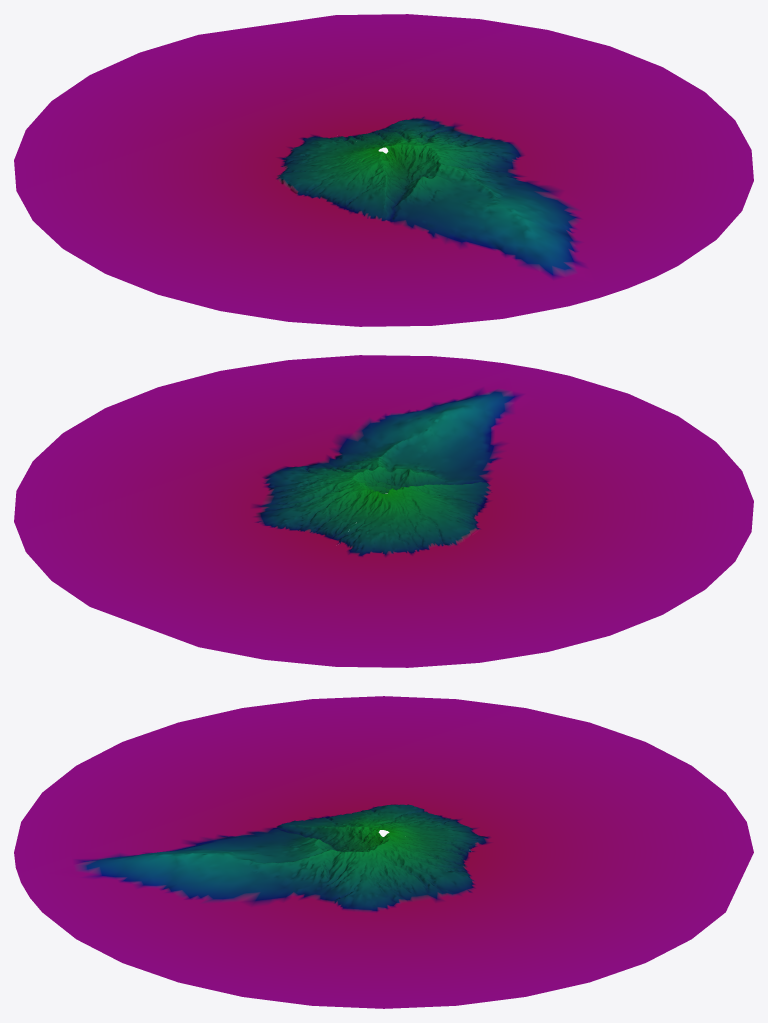
File: far.glb
3 renders of one model, top to bottom at view 1: azimuth 30°, elevation 25°; view 2: azimuth 150°, elevation 25°; view 3: azimuth 270°, elevation 25°, orthographic.
Visible parts, largest first — view 1: far; view 2: far; view 3: far.
Part boxes in pixels (x1,y1,x2,y2): far: (14,14,753,326); far: (14,355,753,667); far: (14,696,753,1008).
Bounding box in the file's own units: 80000 × 2493 × 80000.
